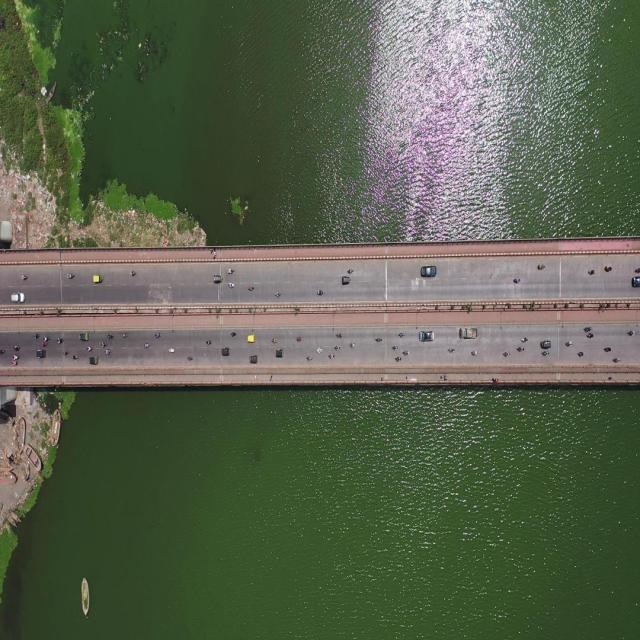3W: (92, 272, 108, 287), (539, 336, 554, 350), (219, 344, 232, 359), (34, 348, 47, 361), (340, 275, 353, 287), (250, 354, 260, 368), (275, 346, 286, 358), (247, 333, 256, 343), (214, 274, 223, 283)
Cars: (6, 289, 31, 308), (458, 323, 478, 342), (419, 262, 438, 281), (78, 329, 91, 345), (419, 329, 435, 342), (630, 276, 640, 288), (88, 358, 100, 367)
M2W: (228, 328, 240, 344), (585, 267, 598, 279), (470, 347, 481, 361), (129, 267, 139, 280), (55, 334, 65, 346), (143, 340, 151, 355), (539, 348, 551, 358), (604, 263, 614, 275), (626, 326, 636, 338), (205, 337, 214, 350), (515, 344, 526, 354), (10, 358, 19, 370), (446, 344, 455, 356), (536, 264, 548, 273), (601, 344, 613, 353), (67, 271, 77, 281), (120, 330, 130, 340), (398, 330, 407, 341), (186, 353, 194, 365), (611, 355, 623, 363), (12, 343, 21, 353), (13, 353, 23, 362), (247, 284, 257, 293), (31, 331, 40, 340), (86, 345, 95, 354), (374, 335, 383, 344), (227, 265, 235, 275), (306, 354, 314, 364), (63, 348, 69, 360), (404, 348, 413, 356), (503, 350, 511, 359), (20, 273, 27, 283), (108, 332, 115, 342), (395, 354, 402, 364), (585, 322, 592, 332), (170, 346, 176, 357), (565, 339, 573, 347), (100, 341, 107, 350), (271, 337, 280, 344), (316, 288, 325, 295), (329, 350, 336, 359), (73, 354, 79, 364), (156, 329, 163, 337), (348, 341, 355, 349), (521, 336, 528, 344), (42, 337, 53, 342), (333, 345, 342, 351), (512, 278, 521, 284), (104, 349, 111, 356), (315, 345, 322, 352), (390, 344, 397, 351), (578, 351, 585, 358), (585, 334, 594, 339), (297, 335, 303, 342), (335, 332, 342, 338), (41, 342, 47, 348), (275, 290, 280, 297), (349, 269, 353, 276), (229, 283, 235, 287)
